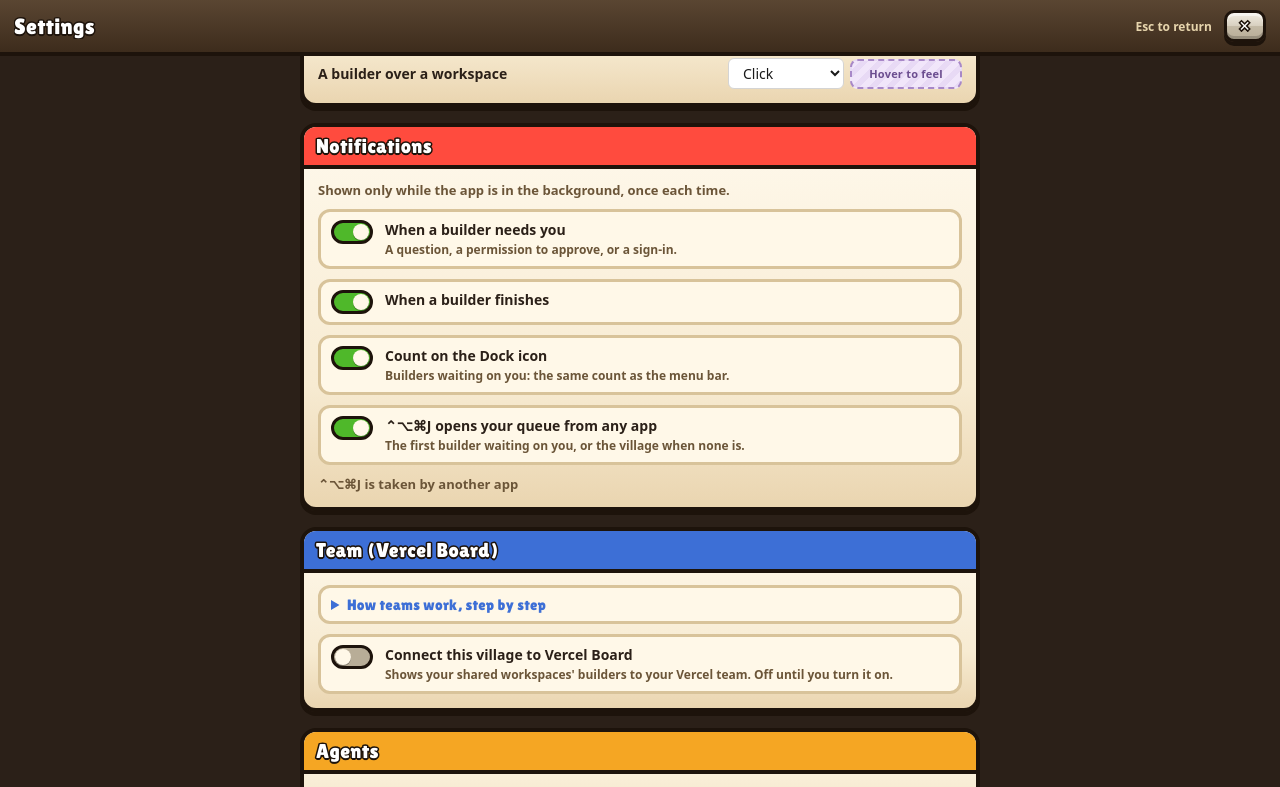
Test: the global shortcut has a toggle, and a note when another app holds its keys
(page scrolled)
expect the text "⌃⌥⌘J is taken by another app" is shown: met, box [318, 475, 518, 493]
Step 1. Click the 4th checkbox → x=352, y=428, box [331, 416, 373, 440]
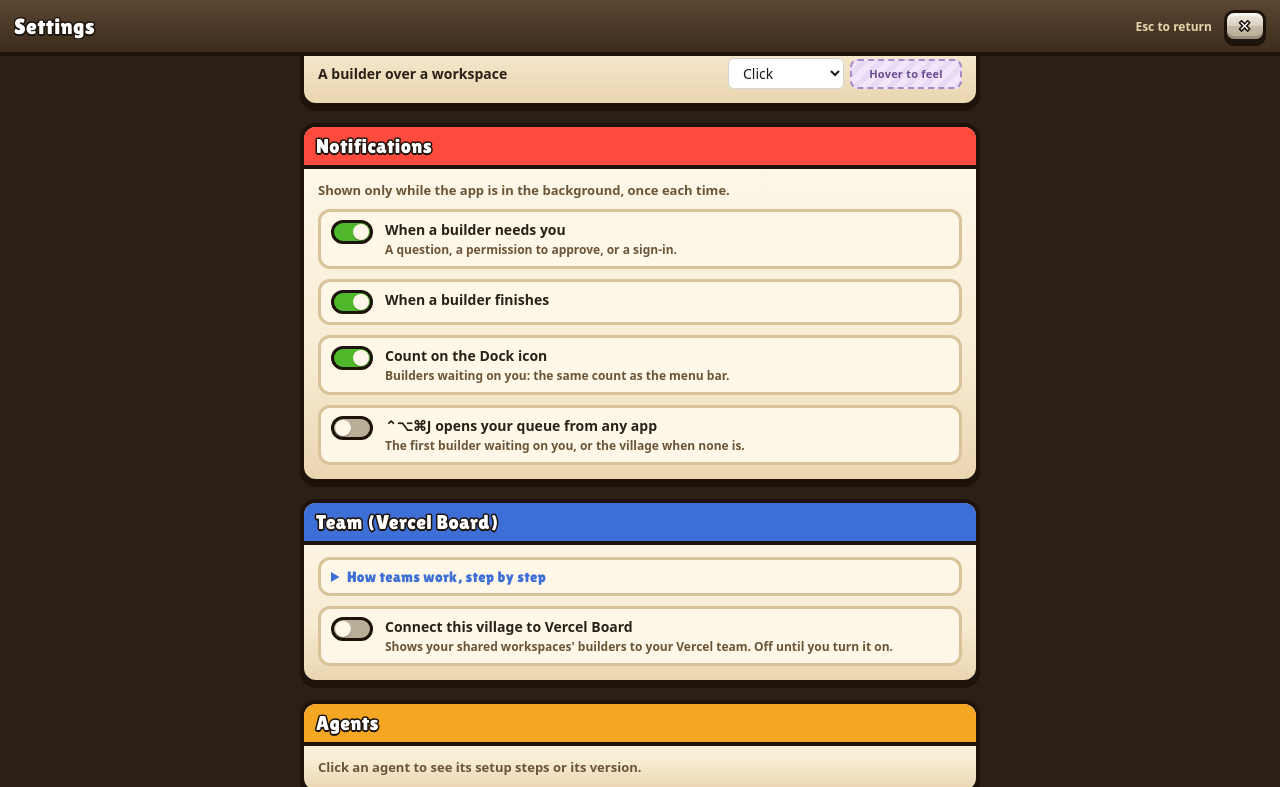
expect the text "⌃⌥⌘J is taken by another app" is gone: met
